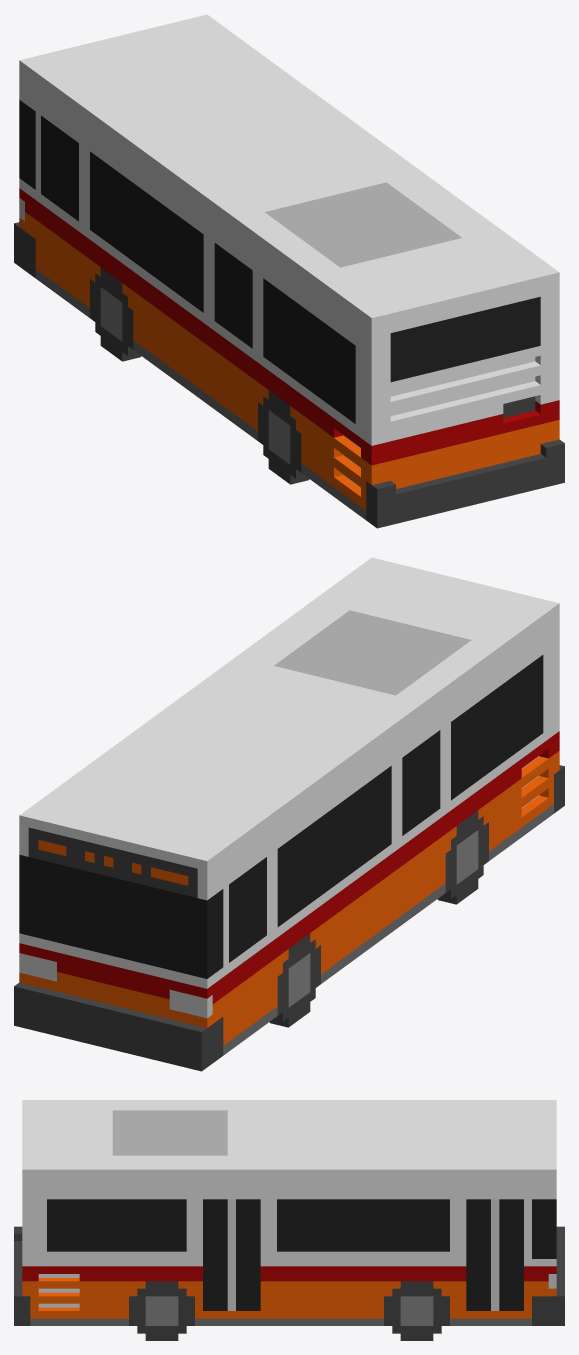
The model's file is veh_bus.obj.
The picture shows the model from 3 angles, top to bottom: view 1: azimuth 30°, elevation 25°; view 2: azimuth 150°, elevation 25°; view 3: azimuth 270°, elevation 25°; orthographic projection. The views are drawn at different scales.
Size of the model in its own units: 2 by 2.3 by 6.7.
Materials: 1 (1 with a texture image).
